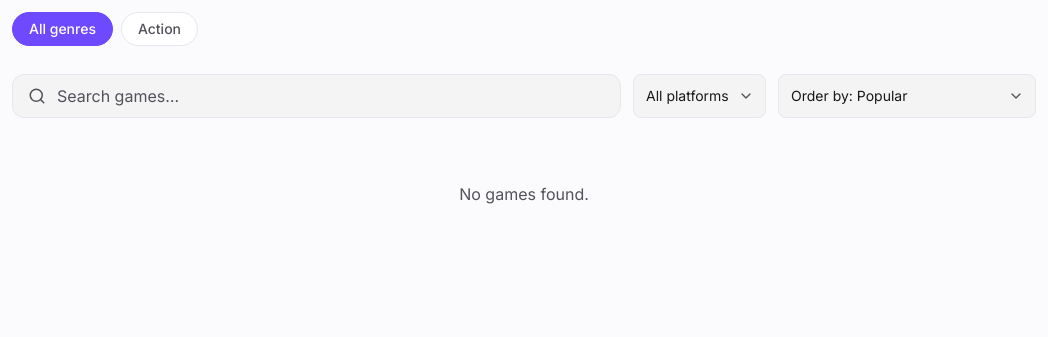
Test: HomePage › writes the chosen genre into the URL
Click the button "Action".
click(160, 29)  # box [121, 12, 198, 46]
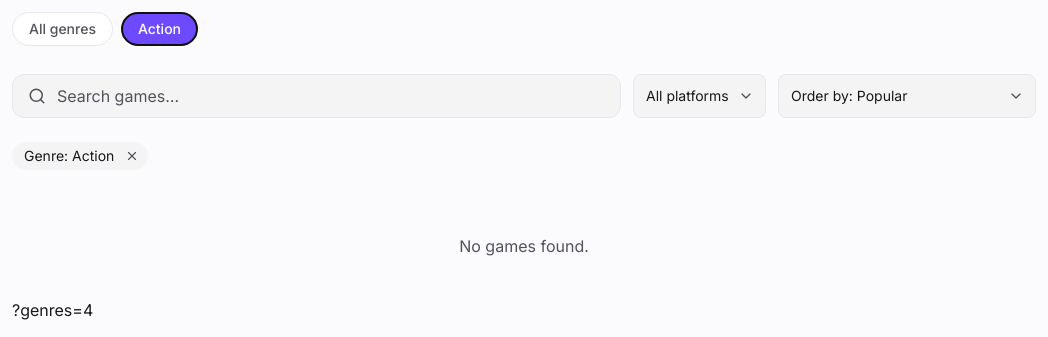
expect the text with test id "search" shows "genres=4": met, box [12, 300, 93, 320]
